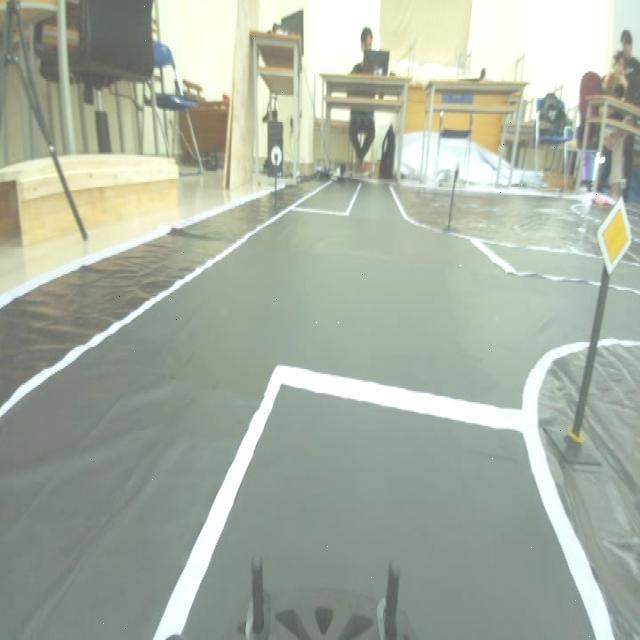priority: (593, 196, 636, 278)
